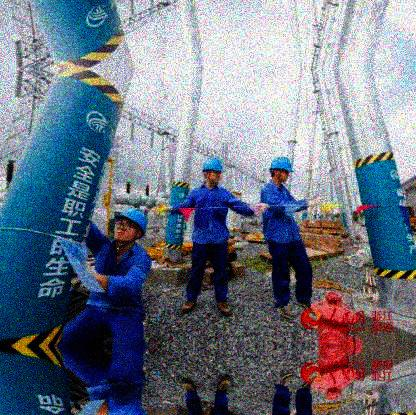helmet: (113, 207, 149, 246), (268, 156, 295, 184), (200, 157, 224, 187)
